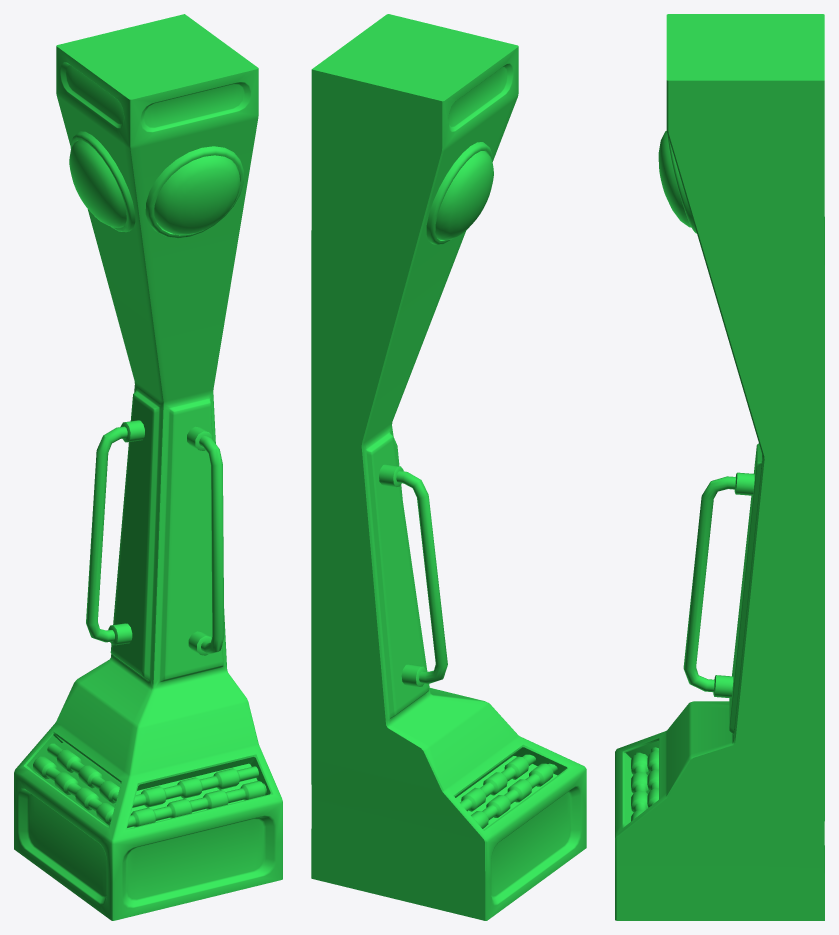
Rendered from Column02.fbx.
3 renders of one model, left to right at view 1: azimuth 30°, elevation 25°; view 2: azimuth 150°, elevation 25°; view 3: azimuth 270°, elevation 25°, orthographic. The views are drawn at different scales.
Parts seen in each view (by area): view 1: SM_Column02; view 2: SM_Column02; view 3: SM_Column02.
Boxes of the visible parts, left/top/right/bottom form: SM_Column02: left=14, top=14, right=282, bottom=920; SM_Column02: left=311, top=14, right=586, bottom=920; SM_Column02: left=615, top=14, right=824, bottom=920.
Bounding box in the file's own units: 68.62 × 303 × 68.62.
